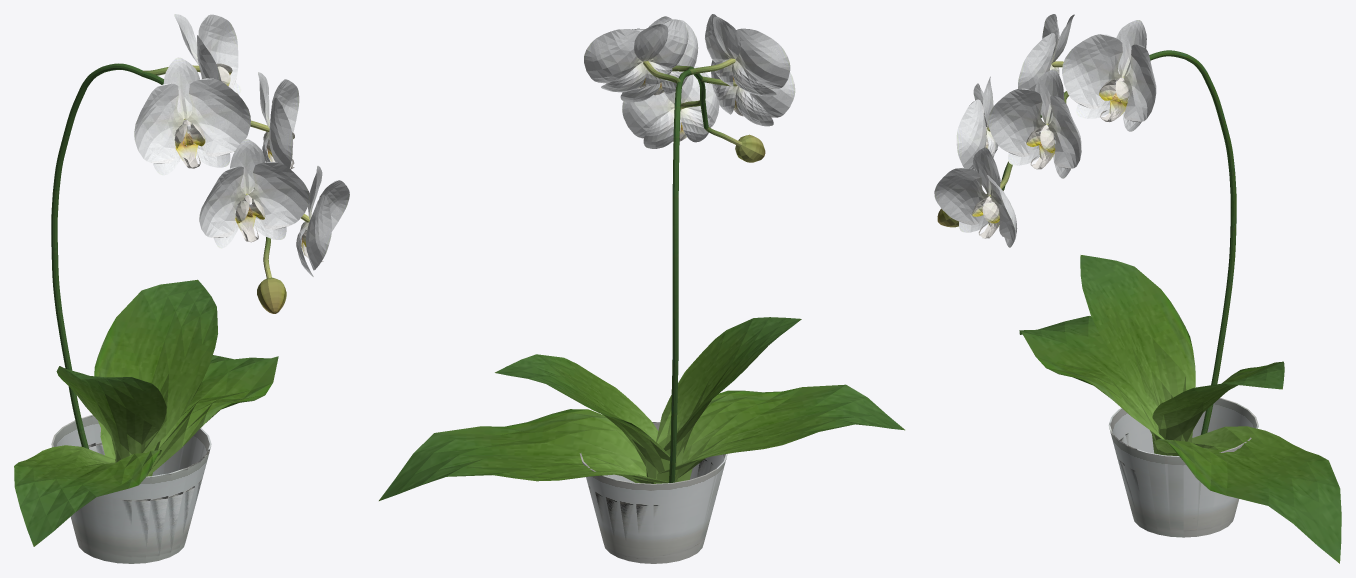
The model's file is sf-orchid.glb.
3 views of the same model, side by side, from view 1: azimuth 30°, elevation 25°; view 2: azimuth 150°, elevation 25°; view 3: azimuth 270°, elevation 25° (orthographic). The views are drawn at different scales.
Parts seen in each view (by area): view 1: Object_4, Object_2; view 2: Object_4, Object_2; view 3: Object_4, Object_2.
Part boxes in pixels (box(x1,y1,x2,y2)): Object_4: box(14, 14, 349, 546); Object_2: box(51, 414, 211, 563); Object_4: box(379, 14, 904, 500); Object_2: box(579, 422, 727, 563); Object_4: box(934, 14, 1341, 563); Object_2: box(1108, 397, 1258, 537).
Bounding box in the file's own units: 0.4234 × 0.55 × 0.399.
3 materials, 2 textured.
